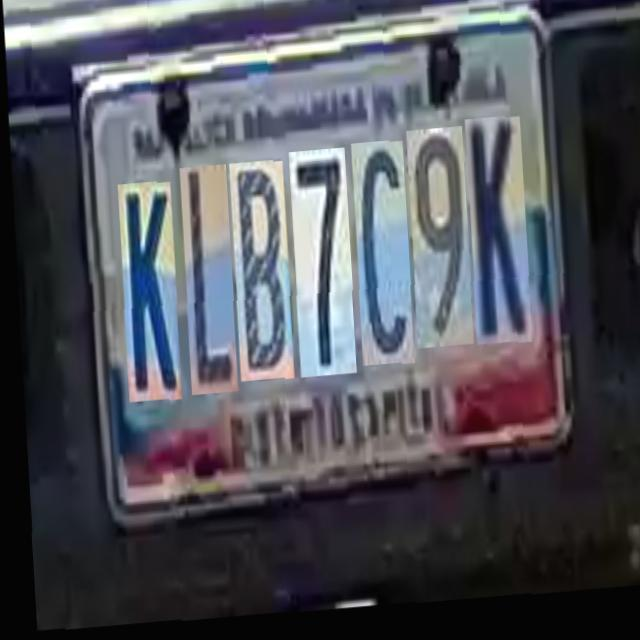7: (286, 150, 352, 380)
9: (403, 130, 469, 352)
B: (226, 163, 289, 384)
C: (348, 143, 410, 370)
K: (462, 120, 527, 349), (114, 183, 177, 404)
L: (176, 166, 233, 396)
